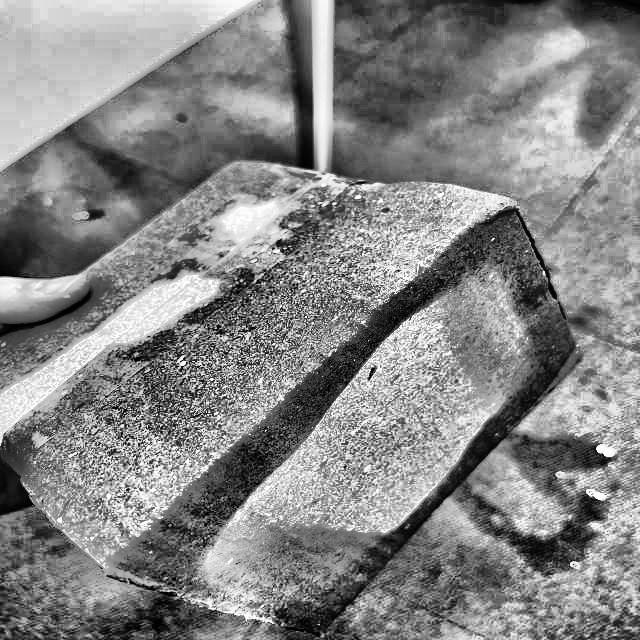box: (0, 153, 591, 639)
wet: (165, 167, 560, 360), (16, 366, 255, 578)
